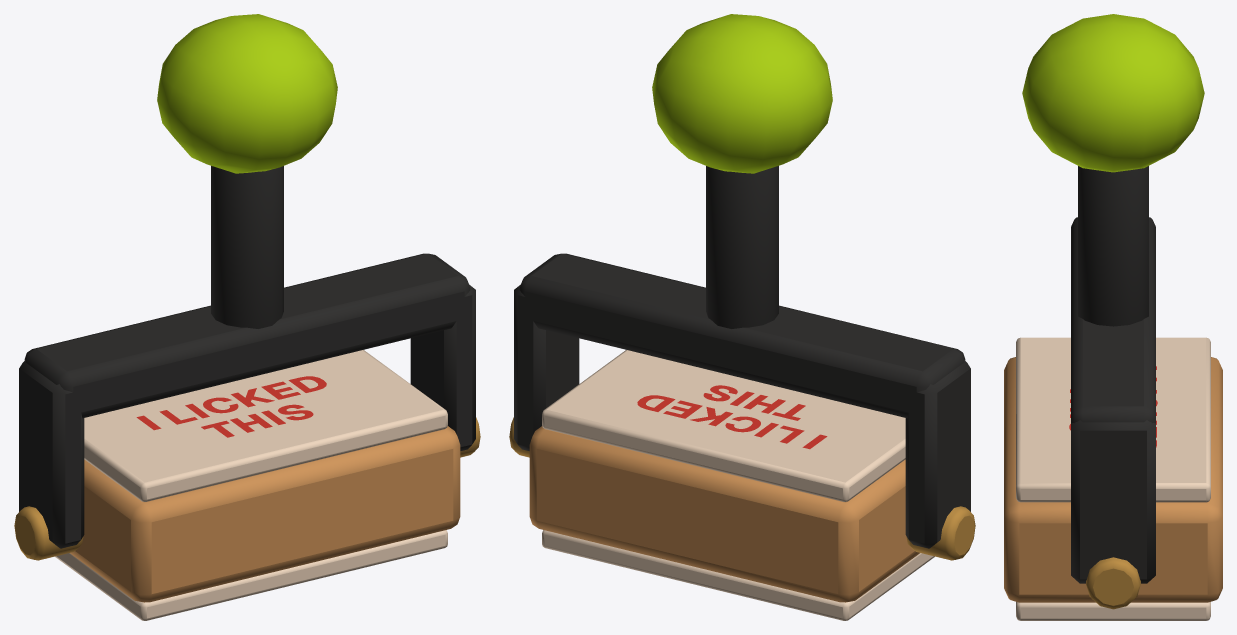
Rendered from rubber-stamp.glb.
3 renders of one model, left to right at view 1: azimuth 30°, elevation 25°; view 2: azimuth 150°, elevation 25°; view 3: azimuth 270°, elevation 25°, orthographic.
Visible parts, largest first — view 1: rubber-stamp-root, rubber-stamp-head; view 2: rubber-stamp-root, rubber-stamp-head; view 3: rubber-stamp-root, rubber-stamp-head.
Part boxes in pixels (bbox=[...]): rubber-stamp-root: bbox=[14, 14, 480, 560]; rubber-stamp-head: bbox=[55, 350, 460, 620]; rubber-stamp-root: bbox=[509, 14, 975, 560]; rubber-stamp-head: bbox=[529, 350, 934, 620]; rubber-stamp-root: bbox=[1022, 14, 1204, 609]; rubber-stamp-head: bbox=[1004, 337, 1222, 620].
Bounding box in the file's own units: 0.168 × 0.1907 × 0.072.
